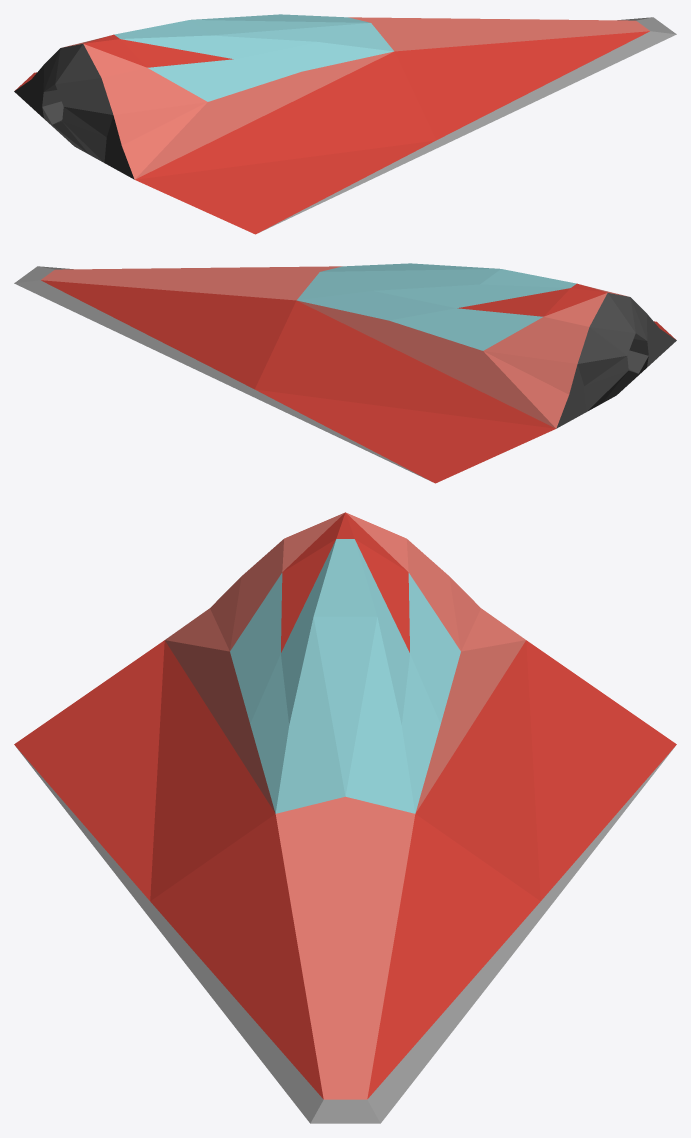
The model's file is ship5.fbx.
3 renders of one model, top to bottom at view 1: azimuth 30°, elevation 25°; view 2: azimuth 150°, elevation 25°; view 3: azimuth 270°, elevation 25°, orthographic. The views are drawn at different scales.
Parts seen in each view (by area): view 1: Cube; view 2: Cube; view 3: Cube.
Boxes of the visible parts, <box> form: Cube: <box>14,14,676,234</box>; Cube: <box>14,263,676,483</box>; Cube: <box>14,512,676,1123</box>.
Size of the model in its own units: 751 by 146 by 469.
